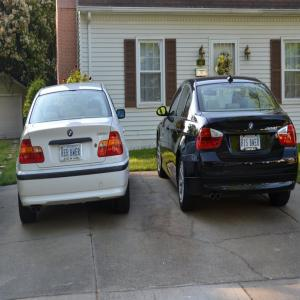Vehicle-registration-plate: (60, 142, 83, 163), (241, 135, 261, 152)
